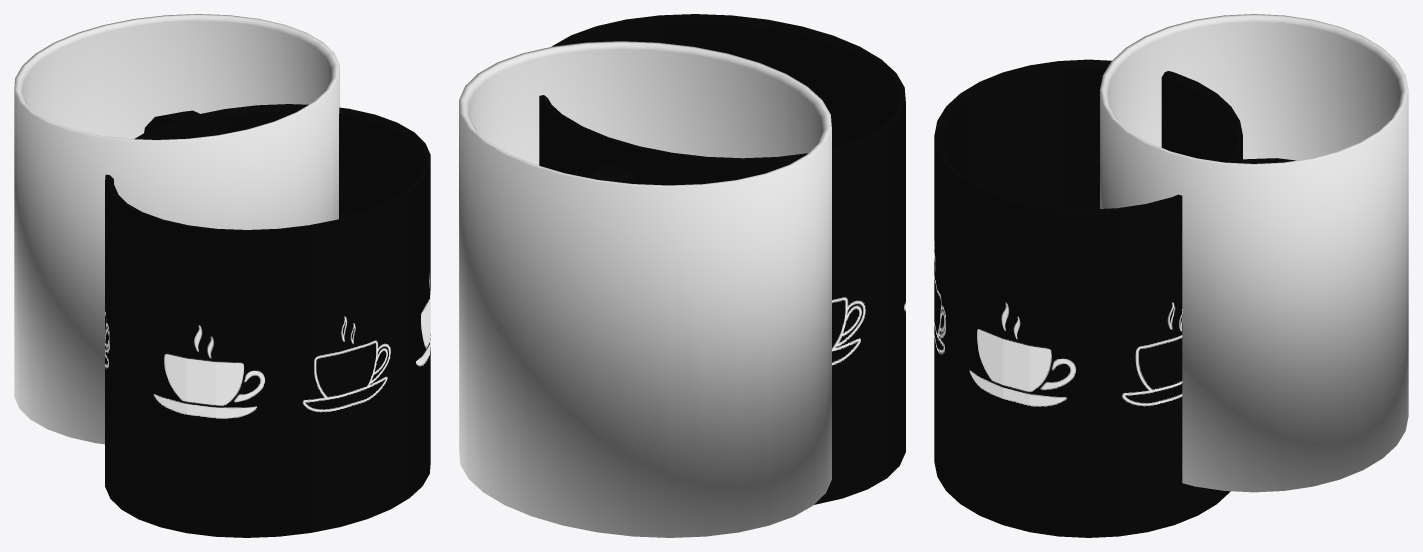
Rendered from Chicara.glb.
3 renders of one model, left to right at view 1: azimuth 30°, elevation 25°; view 2: azimuth 150°, elevation 25°; view 3: azimuth 270°, elevation 25°, orthographic. The views are drawn at different scales.
Visible parts, largest first — view 1: Cilindro.001, Cilindro; view 2: Cilindro, Cilindro.001; view 3: Cilindro, Cilindro.001.
Part boxes in pixels (bbox=[...]): Cilindro.001: bbox=[105, 104, 430, 537]; Cilindro: bbox=[14, 14, 339, 444]; Cilindro: bbox=[459, 41, 831, 537]; Cilindro.001: bbox=[539, 14, 905, 504]; Cilindro: bbox=[1100, 14, 1408, 492]; Cilindro.001: bbox=[934, 59, 1295, 537].
Size of the model in its own units: 0.8388 by 0.8979 by 1.06.
1 material, 1 textured.
